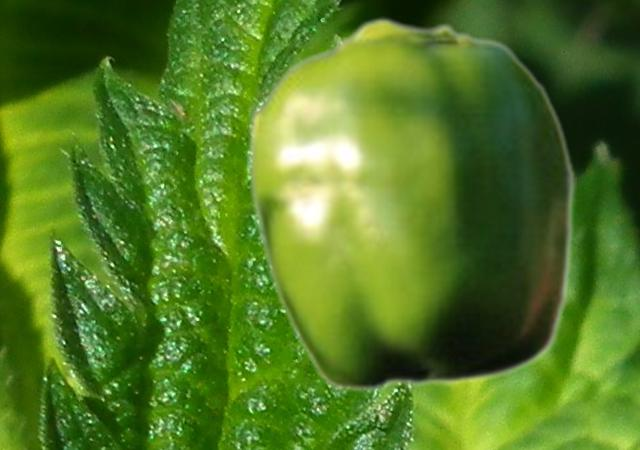bell_pepper: (247, 16, 575, 392)
